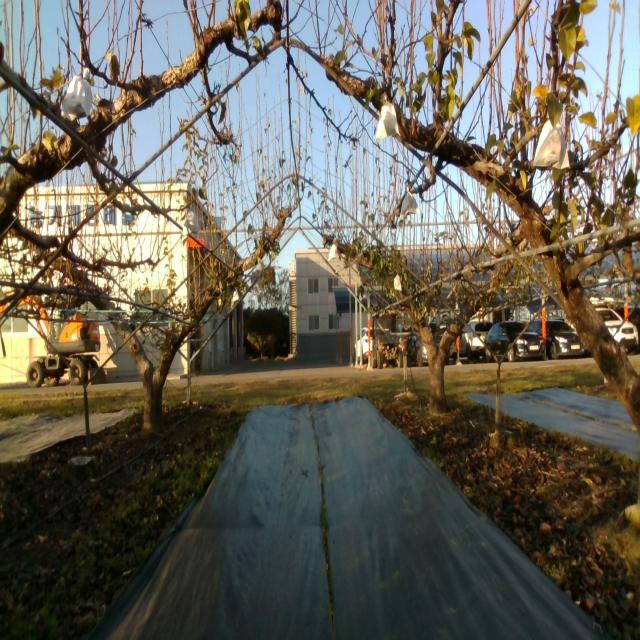pearbags: (533, 118, 571, 172), (61, 67, 92, 120), (376, 100, 401, 141), (400, 186, 420, 219), (182, 210, 199, 235), (328, 244, 339, 262)
